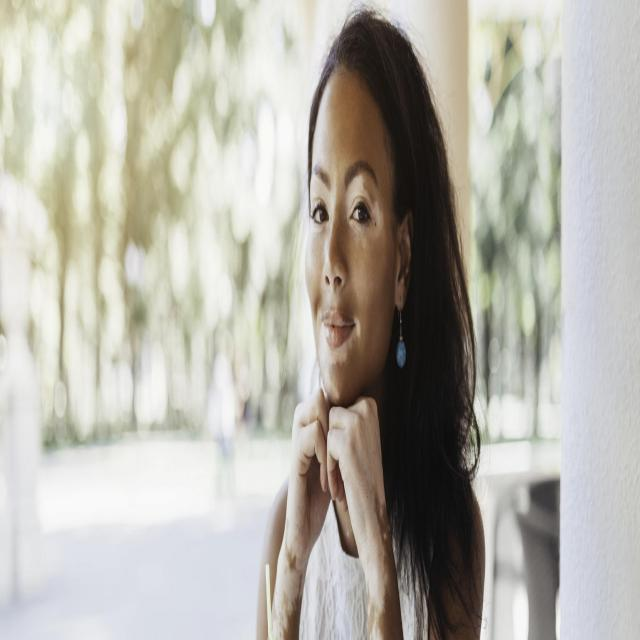vitiligo: (307, 153, 387, 387), (338, 420, 400, 640), (278, 427, 304, 640)
